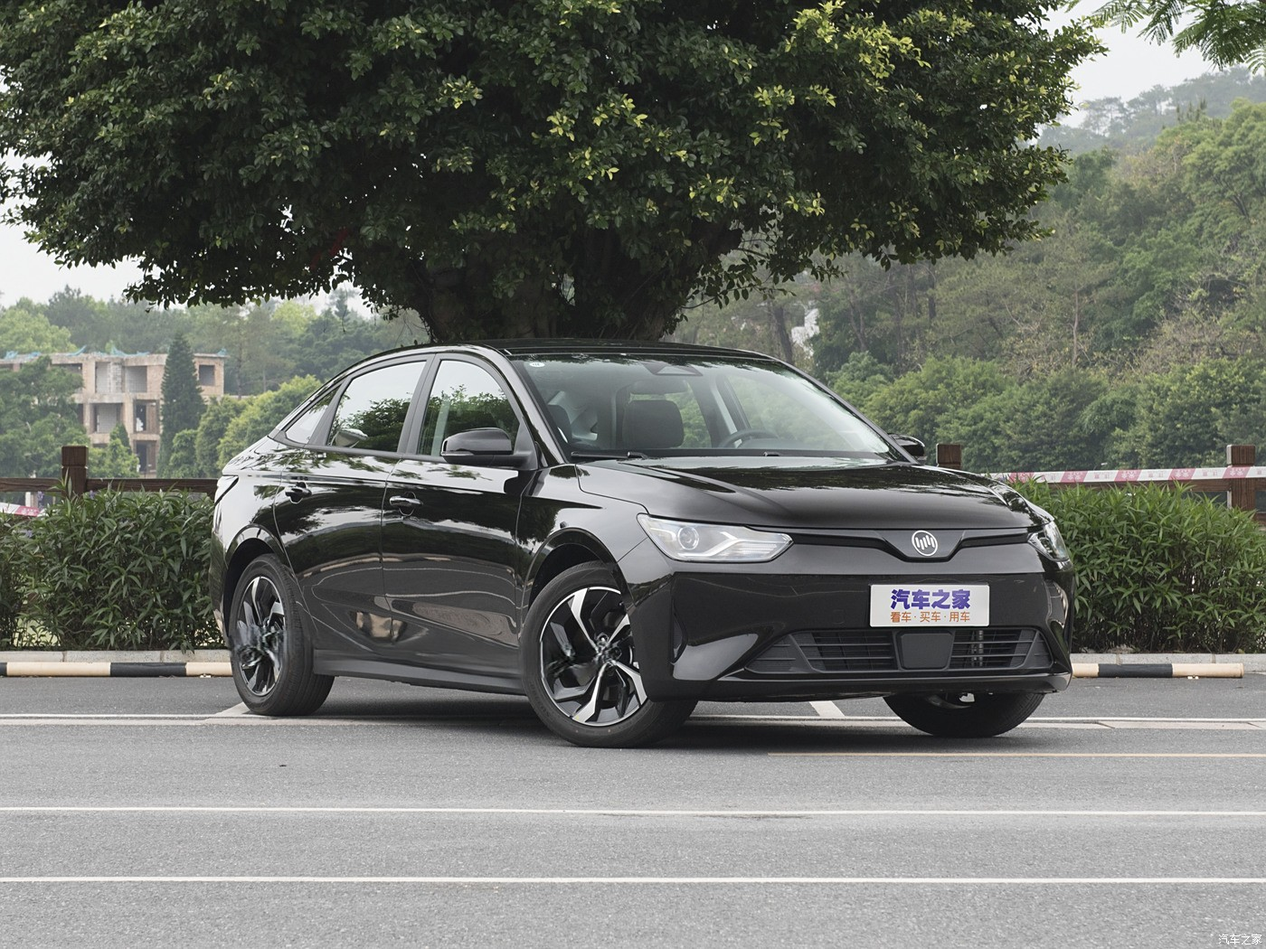WELTMEISTER: (912, 531, 937, 555)
